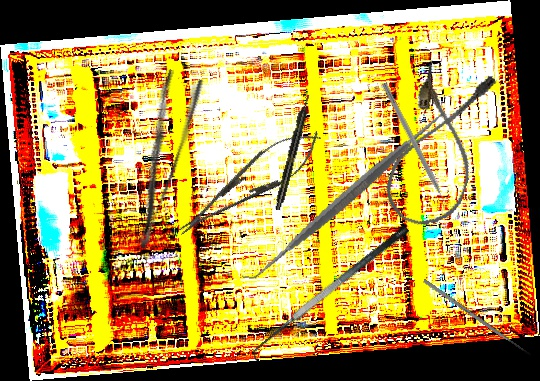Cannula: (377, 55, 502, 237)
Chopper: (374, 82, 452, 215)
Dressing Forceps: (109, 68, 207, 250)
Handpiece: (272, 93, 314, 212)
Needle Holder: (167, 117, 331, 249)
Pusher: (422, 278, 533, 358)
Spatula Surgical: (241, 85, 455, 307), (243, 223, 421, 367)
